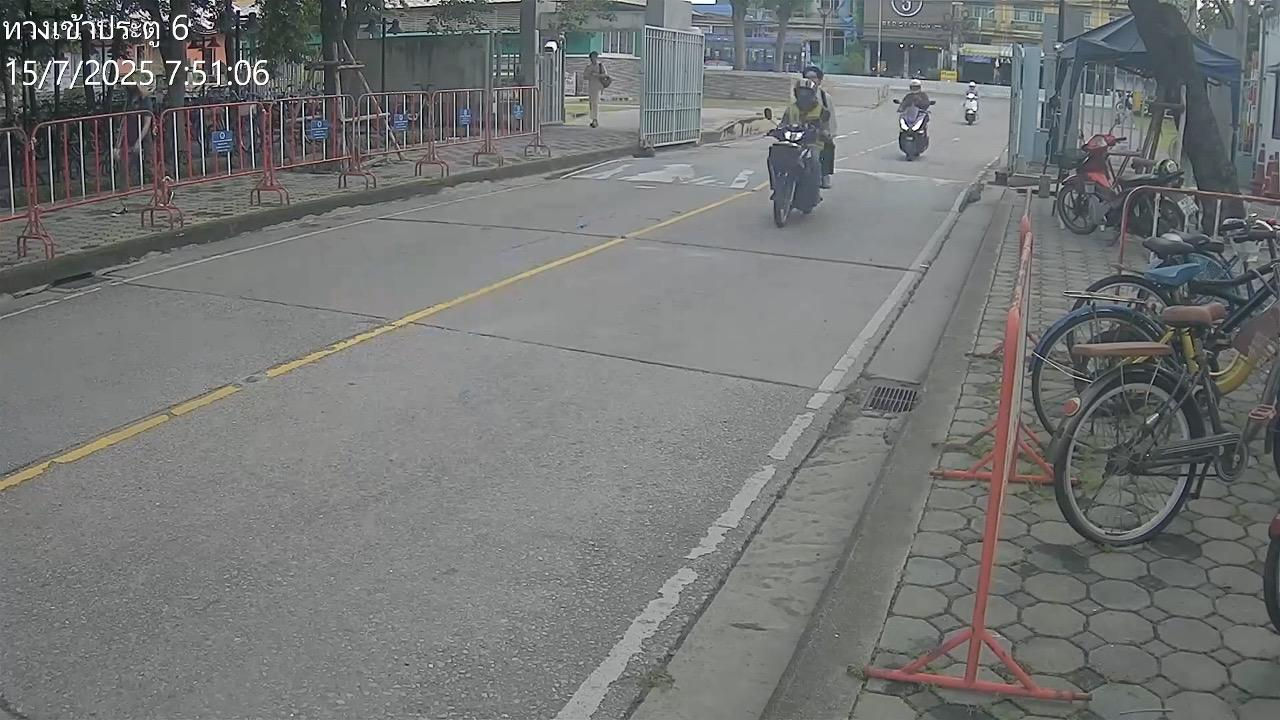With-Helmet: (794, 78, 818, 106)
